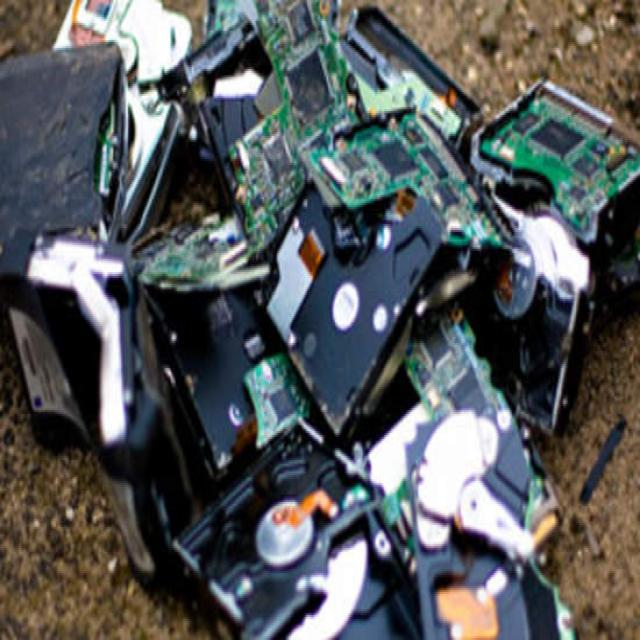hazard: (1, 8, 633, 640)
